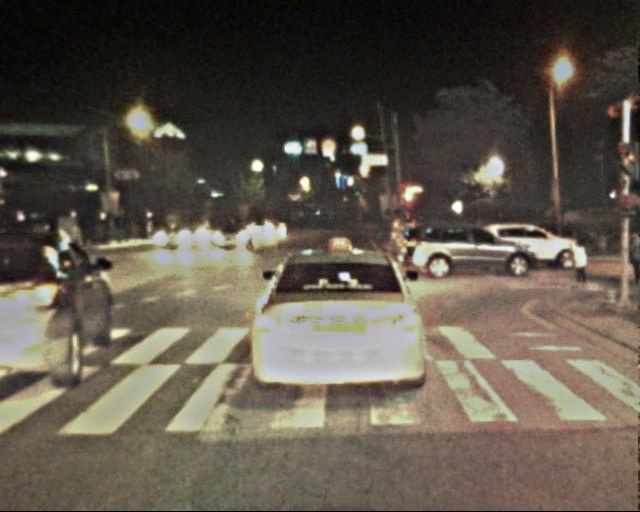person: (567, 228, 593, 289), (621, 230, 639, 287)
